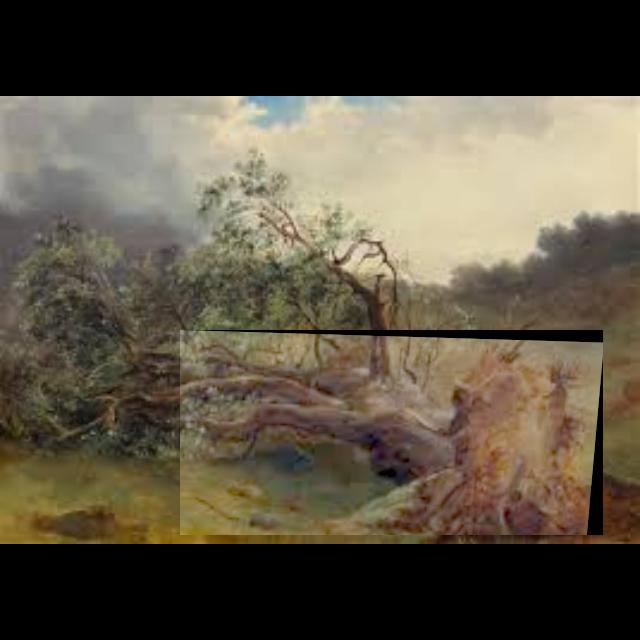Fallen Tree: (180, 330, 604, 536)
